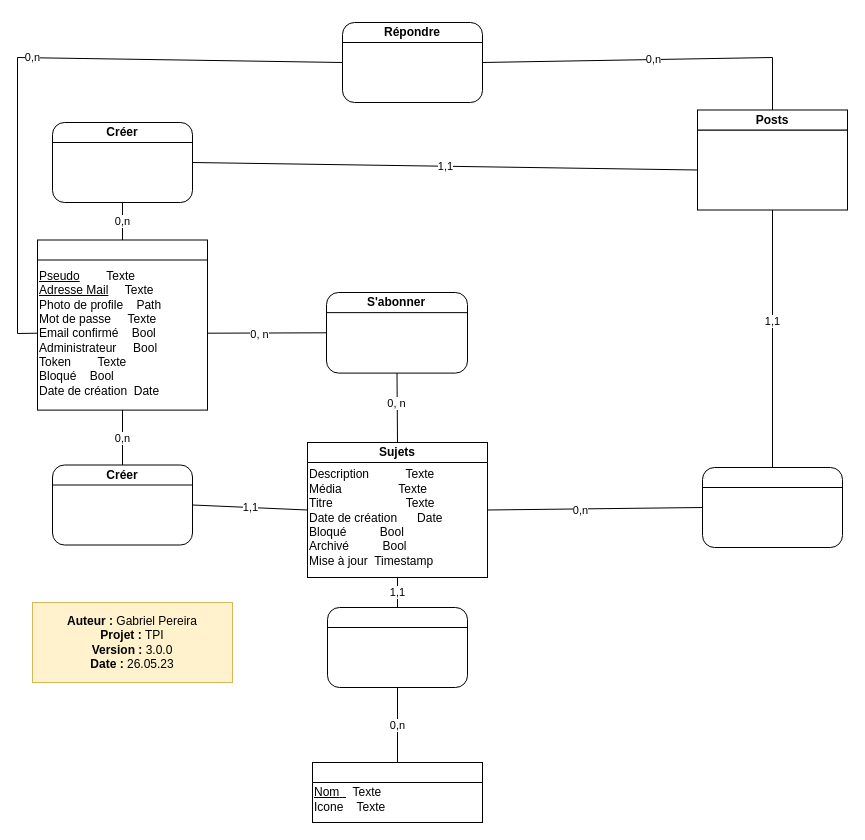
Image size: 865x840. Some labels were removed from this diagram. The centre of each missing label's shape, as x and y in pixels:
"Appartenir" goes at (397,647).
"Catégories" goes at (397,772).
"Contenir" goes at (772,507).
"Description Texte Date de création Date Média Path Bloqué Bool Réponse à Texte" goes at (772,169).
"Utilisateurs" goes at (122,249).
